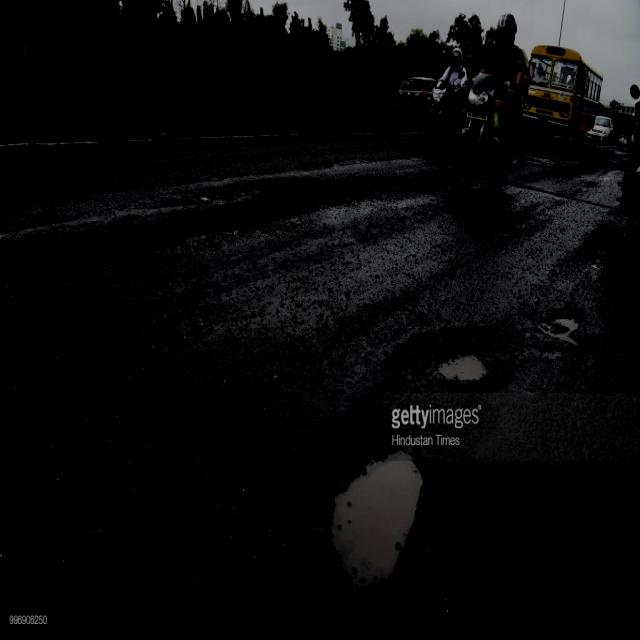Pothole: (268, 458, 508, 640)
